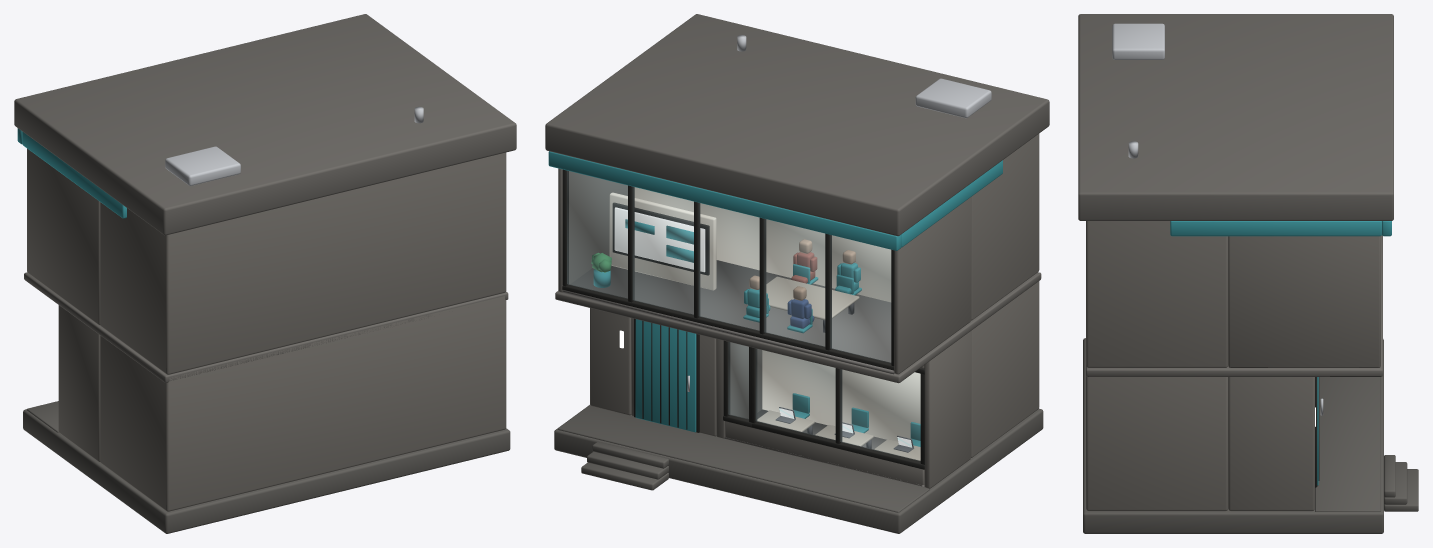
Rendered from teal-brow-level-2.glb.
3 renders of one model, left to right at view 1: azimuth 30°, elevation 25°; view 2: azimuth 150°, elevation 25°; view 3: azimuth 270°, elevation 25°, orthographic. The views are drawn at different scales.
Visible parts, largest first — view 1: roof slab, upper rear mass, ground rear mass, plinth, upper west pier, ground west return, floor slab, roof unit, teal brow return; view 2: roof slab, upper room floor, porch slab, upper west pier, plinth, upper rear mass, ground rear mass, ground room back wall, upper room back wall, upper glazing pane 2, upper glazing pane 3, upper glazing pane 4 (+34 smaller); view 3: roof slab, upper east pier, upper rear mass, ground rear mass, ground east return, porch slab, plinth, teal brow return.001, floor slab, roof unit, entrance step 1, entrance step 2 (+1 smaller).
Part boxes in pixels (<box>): roof slab: <box>14,14,516,235</box>; upper rear mass: <box>100,152,506,374</box>; ground rear mass: <box>100,296,506,511</box>; plinth: <box>23,409,510,533</box>; upper west pier: <box>27,148,100,324</box>; ground west return: <box>58,305,100,461</box>; floor slab: <box>24,272,508,382</box>; roof unit: <box>165,146,240,185</box>; teal brow return: <box>22,131,126,218</box>; roof slab: <box>545,14,1049,236</box>; upper room floor: <box>562,256,894,374</box>; porch slab: <box>557,405,929,512</box>; upper west pier: <box>894,197,970,374</box>; plinth: <box>554,405,1043,533</box>; upper rear mass: <box>971,134,1039,320</box>; ground rear mass: <box>971,281,1039,457</box>; ground room back wall: <box>762,350,920,441</box>; upper room back wall: <box>634,187,891,302</box>; upper glazing pane 2: <box>764,219,824,346</box>; upper glazing pane 3: <box>699,203,759,330</box>; upper glazing pane 4: <box>633,187,693,314</box>; roof slab: <box>1078,14,1393,220</box>; upper east pier: <box>1228,236,1380,367</box>; upper rear mass: <box>1086,221,1228,367</box>; ground rear mass: <box>1086,376,1228,511</box>; ground east return: <box>1228,377,1314,511</box>; porch slab: <box>1315,377,1380,511</box>; plinth: <box>1083,338,1383,533</box>; teal brow return.001: <box>1170,221,1381,236</box>; floor slab: <box>1086,235,1382,376</box>; roof unit: <box>1112,23,1164,59</box>; entrance step 1: <box>1384,469,1418,511</box>; entrance step 2: <box>1384,462,1407,504</box>.
Size of the model in its own units: 8.1 by 7.48 by 6.47.
